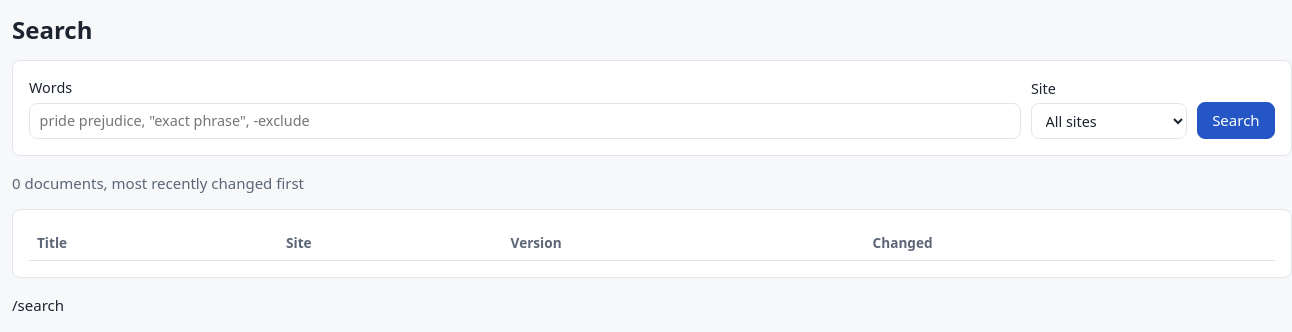
Test: Search › puts the query and site in the URL
Step 1. Select "Books to Scrape" in the dropdown labelled "Site" → (1109, 121), box [1031, 103, 1187, 139]
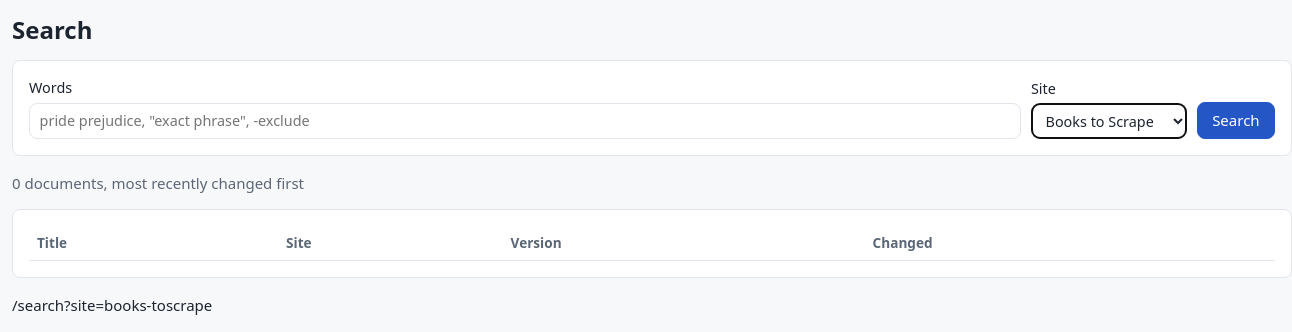
Step 2. Type "pride prejudice" into the search field named "Search words" → (525, 121), box [29, 103, 1021, 139]
Then press Enter
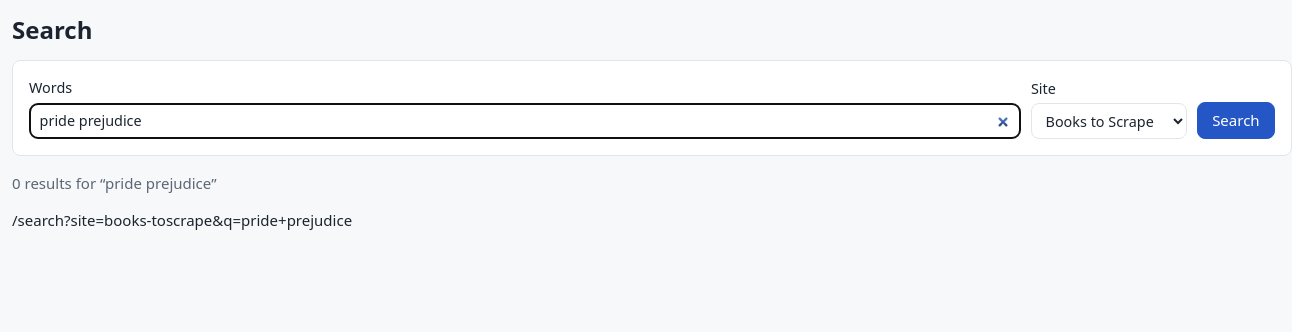
Now the text with test id "where" reads "/search?site=books-toscrape&q=pride+prejudice", box [12, 210, 352, 230]
Now the text "0 results for “pride prejudice”" is shown, box [12, 173, 216, 193]
